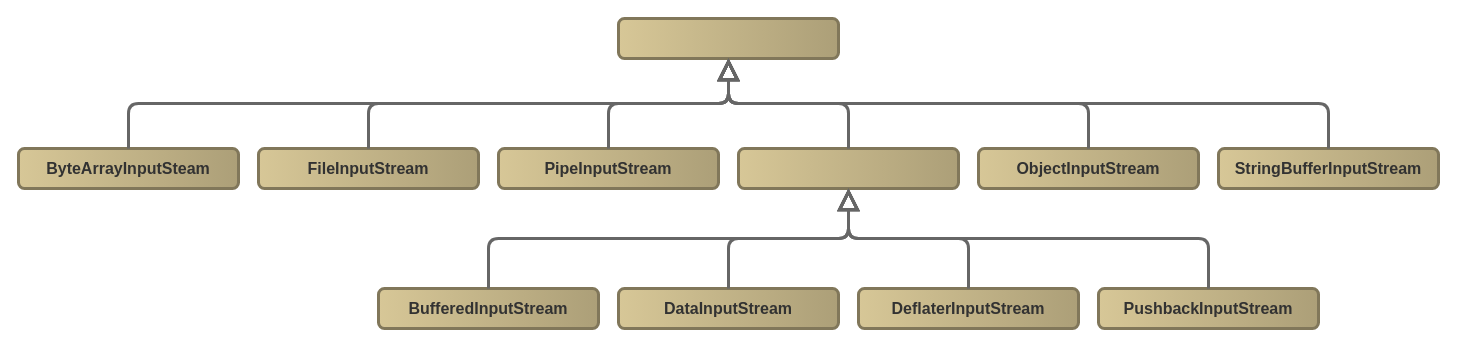
The diagram is 1457 pixels wide and 347 high, and some of its shapes have lost their labels. The centre of each missing label's shape, as x and y in pixels:
FilterInputStream: the point at 848,168
InputStream: the point at 728,38
